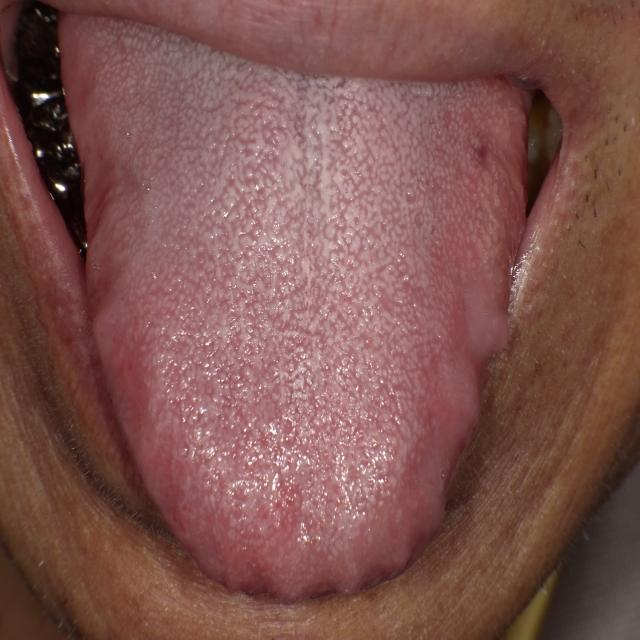baitaishe: (58, 15, 532, 605)
chihenshe: (345, 334, 503, 595)
